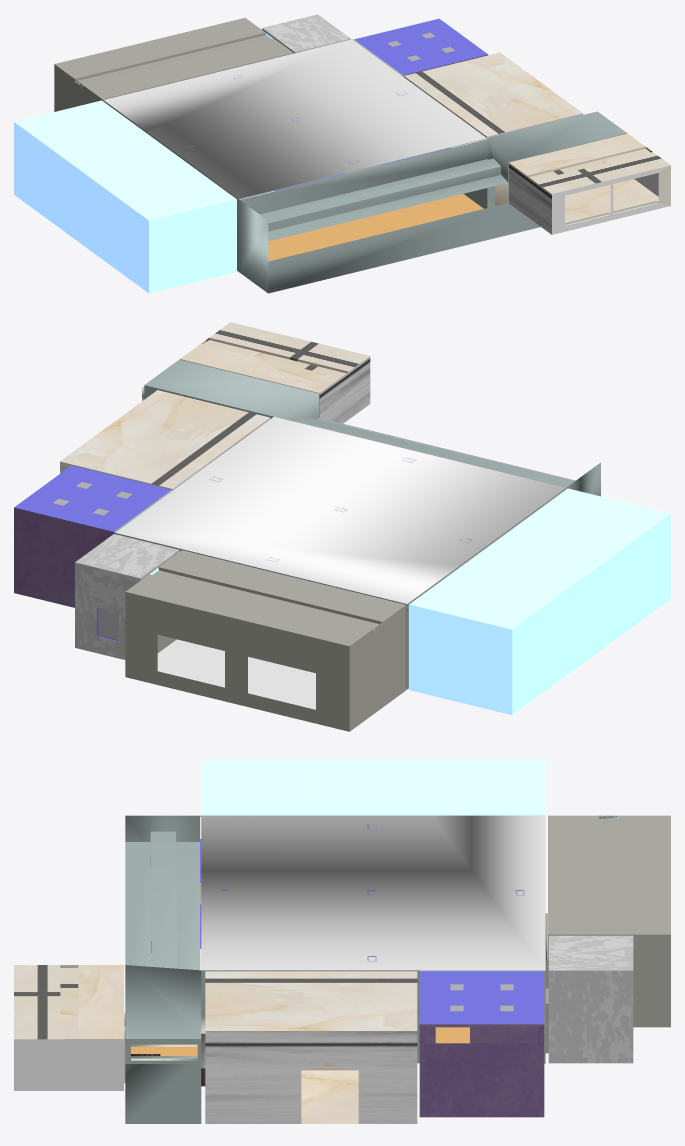
The model's file is Building.fbx.
3 views of the same model, one above another, from view 1: azimuth 30°, elevation 25°; view 2: azimuth 150°, elevation 25°; view 3: azimuth 270°, elevation 25° (orthographic). The views are drawn at different scales.
Parts seen in each view (by area): view 1: Building; view 2: Building; view 3: Building.
Boxes of the visible parts, bbox=[...] form: Building: bbox=[14, 14, 670, 293]; Building: bbox=[14, 322, 670, 731]; Building: bbox=[14, 760, 670, 1123].
Bounding box in the file's own units: 3554 × 548 × 3511.
